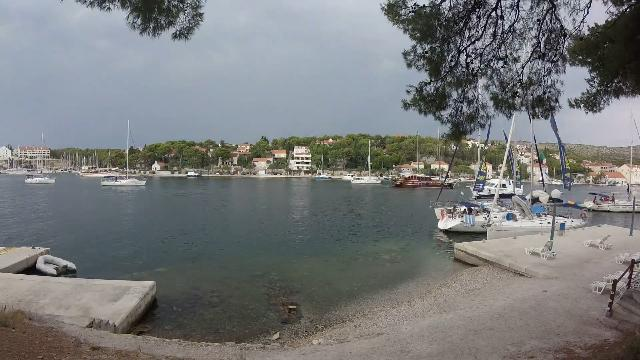Freighter: (389, 170, 468, 192)
Sailboat: (96, 172, 150, 190), (22, 170, 58, 188), (350, 172, 384, 187)
